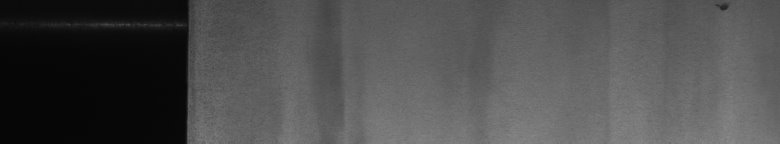fi: (715, 4, 732, 16)
